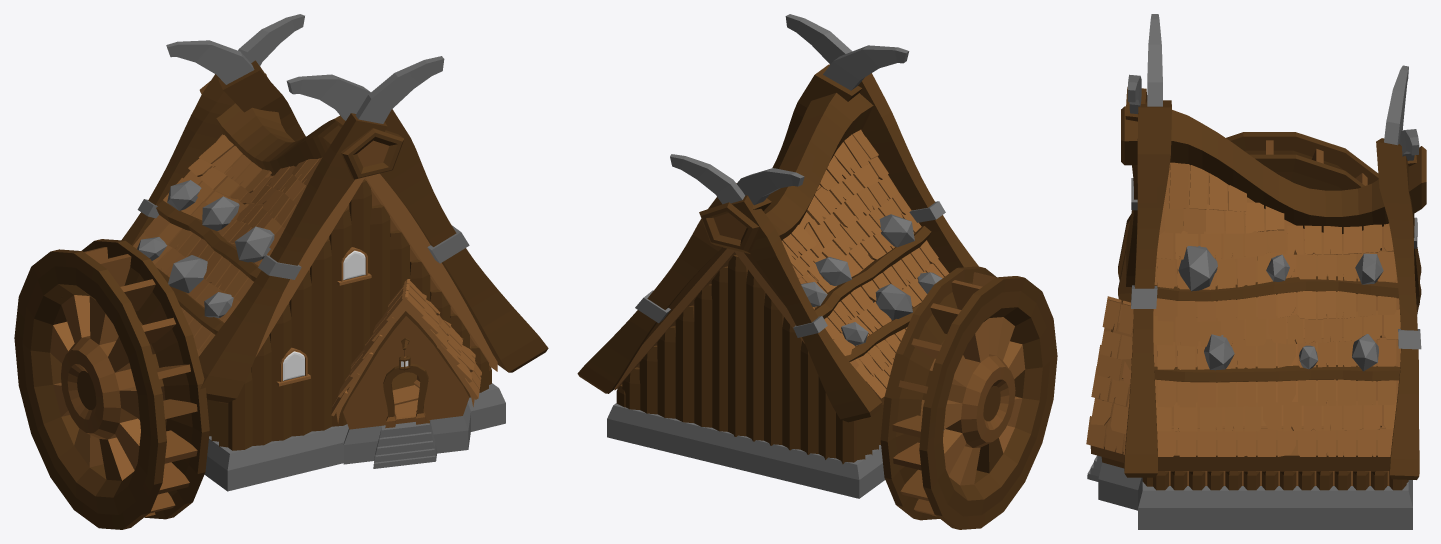
File: B_MillBase.fbx
The picture shows the model from 3 angles, left to right: view 1: azimuth 30°, elevation 25°; view 2: azimuth 150°, elevation 25°; view 3: azimuth 270°, elevation 25°; orthographic projection. The views are drawn at different scales.
Parts seen in each view (by area): view 1: B_MillBase, B_MillBaseMill; view 2: B_MillBase, B_MillBaseMill; view 3: B_MillBase, B_MillBaseMill.
Boxes of the visible parts, left/top/right/bottom form: B_MillBase: left=121, top=14, right=548, bottom=491; B_MillBaseMill: left=14, top=239, right=209, bottom=529; B_MillBase: left=577, top=14, right=978, bottom=498; B_MillBaseMill: left=880, top=266, right=1057, bottom=529; B_MillBase: left=1086, top=14, right=1426, bottom=529; B_MillBaseMill: left=1118, top=132, right=1421, bottom=315.
Bounding box in the file's own units: 1138 × 1208 × 800.
